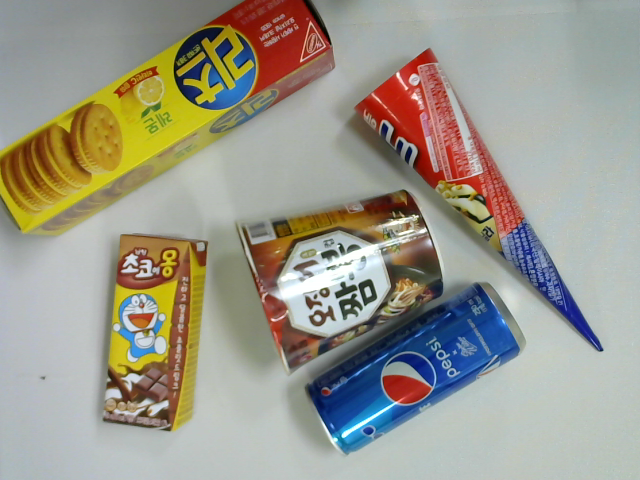Choco_E_Mong: (100, 228, 215, 439)
Ojjam: (231, 188, 453, 379)
Pepsi_Cola_Can_250ml: (301, 274, 528, 461)
Ritz_Remon_96g: (1, 1, 337, 249)
World_Cone_Banila: (353, 39, 612, 365)
